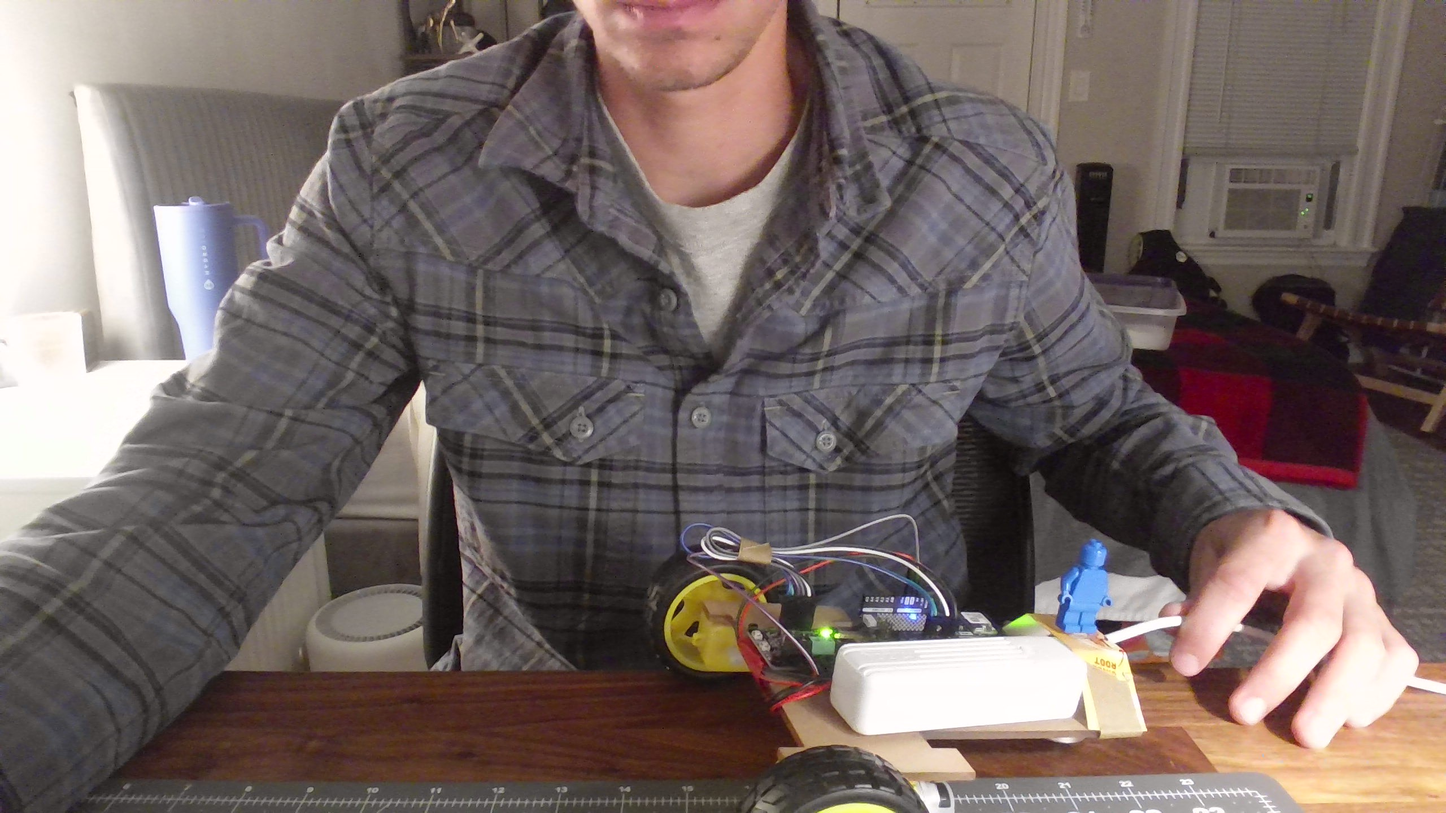Training-dataset-2: (1043, 531, 1126, 651)
